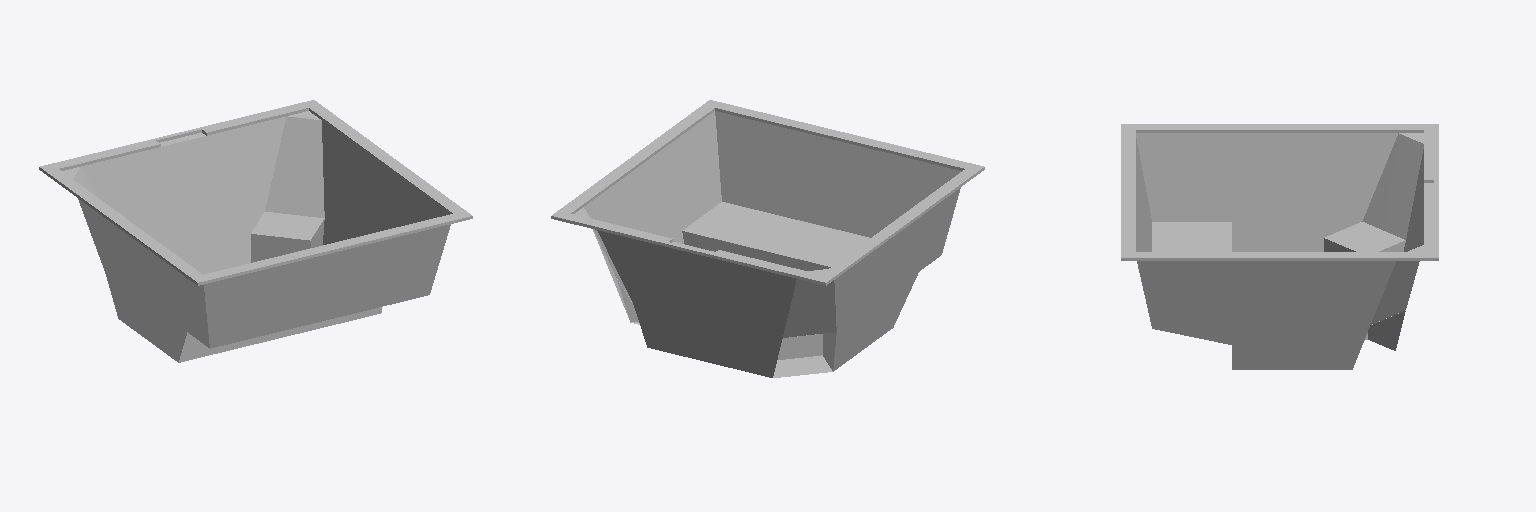
File: ONIX_BLANCA.obj
3 renders of one model, left to right at view 1: azimuth 30°, elevation 25°; view 2: azimuth 150°, elevation 25°; view 3: azimuth 270°, elevation 25°, orthographic.
Visible parts, largest first — view 1: Mesh1 Group1 Model; view 2: Mesh1 Group1 Model; view 3: Mesh1 Group1 Model.
Part boxes in pixels (x1,y1,x2,y2): Mesh1 Group1 Model: (39,100,472,362); Mesh1 Group1 Model: (551,100,984,377); Mesh1 Group1 Model: (1121,124,1438,369).
Bounding box in the file's own units: 180 × 81.01 × 180.